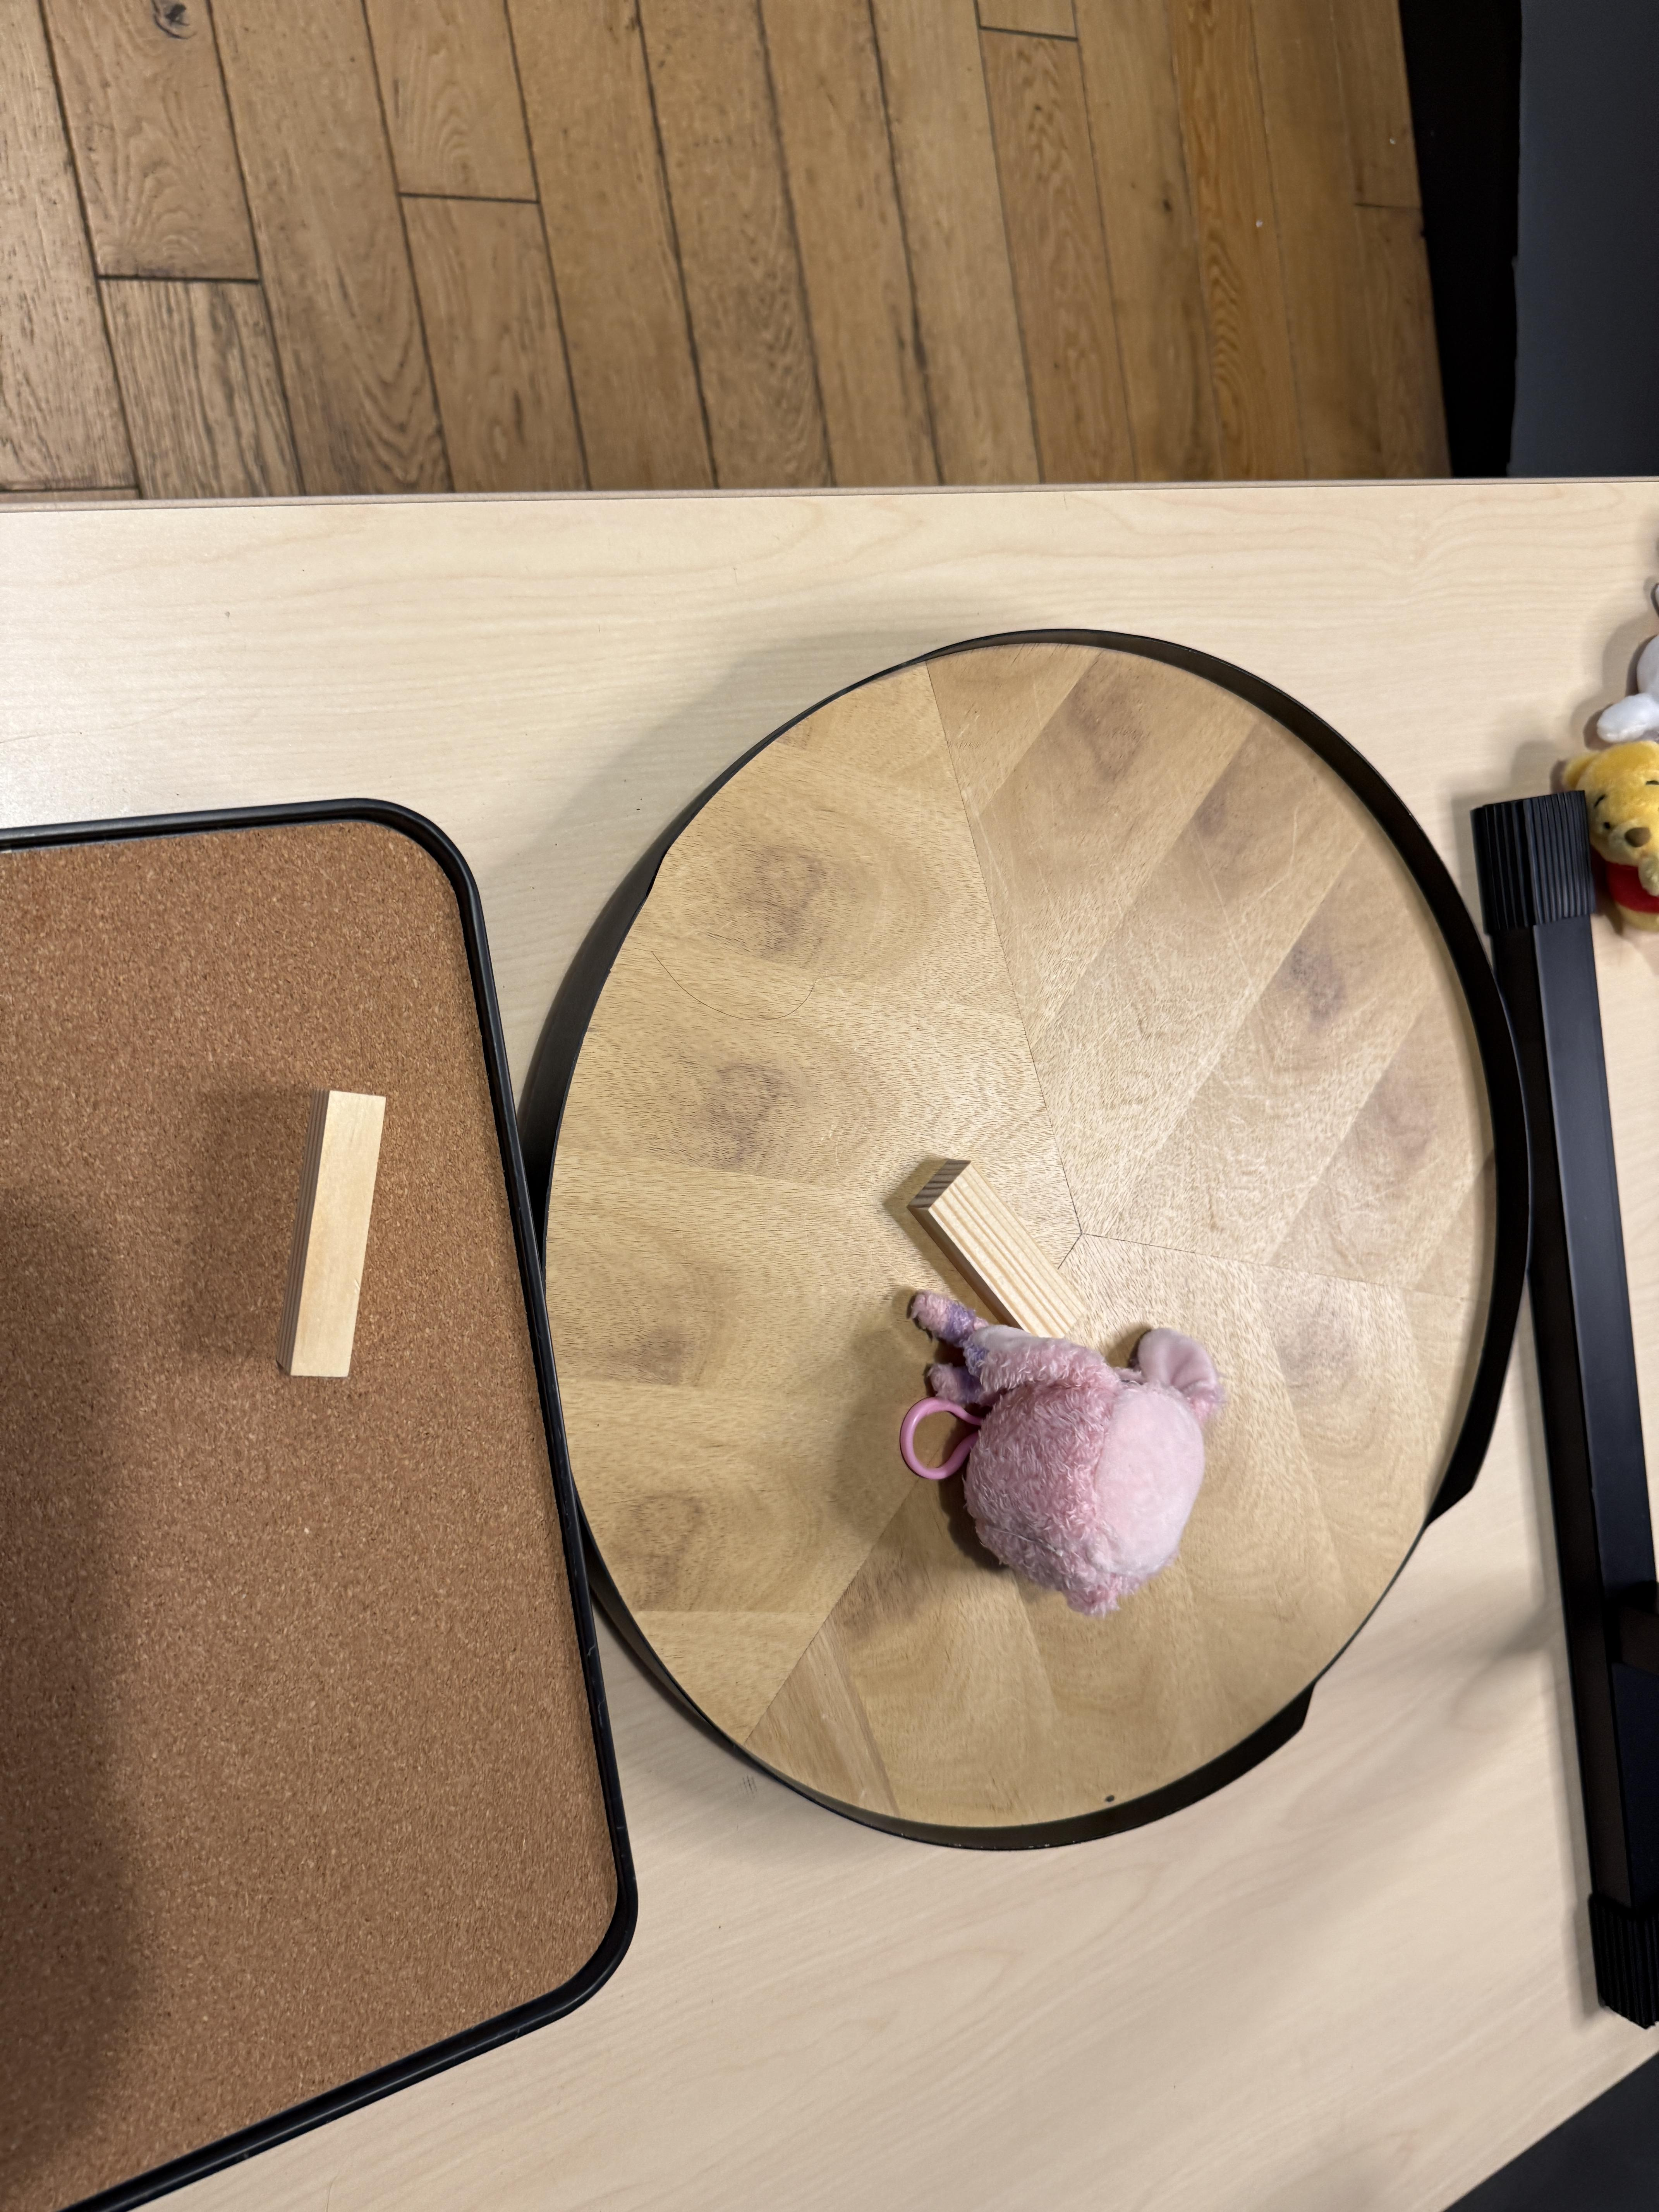block: (914, 1154, 1110, 1361), (283, 1080, 384, 1380)
doll: (898, 1290, 1230, 1618)
